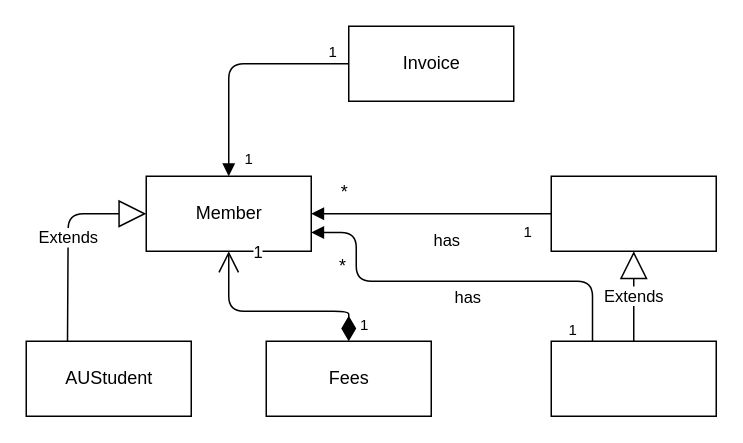
Some shapes in this 743 by 443 pixel diagram are drawn without their labels. Each missing label, with the centre of its shape:
Grading: the point at 633,378
Session: the point at 633,213
